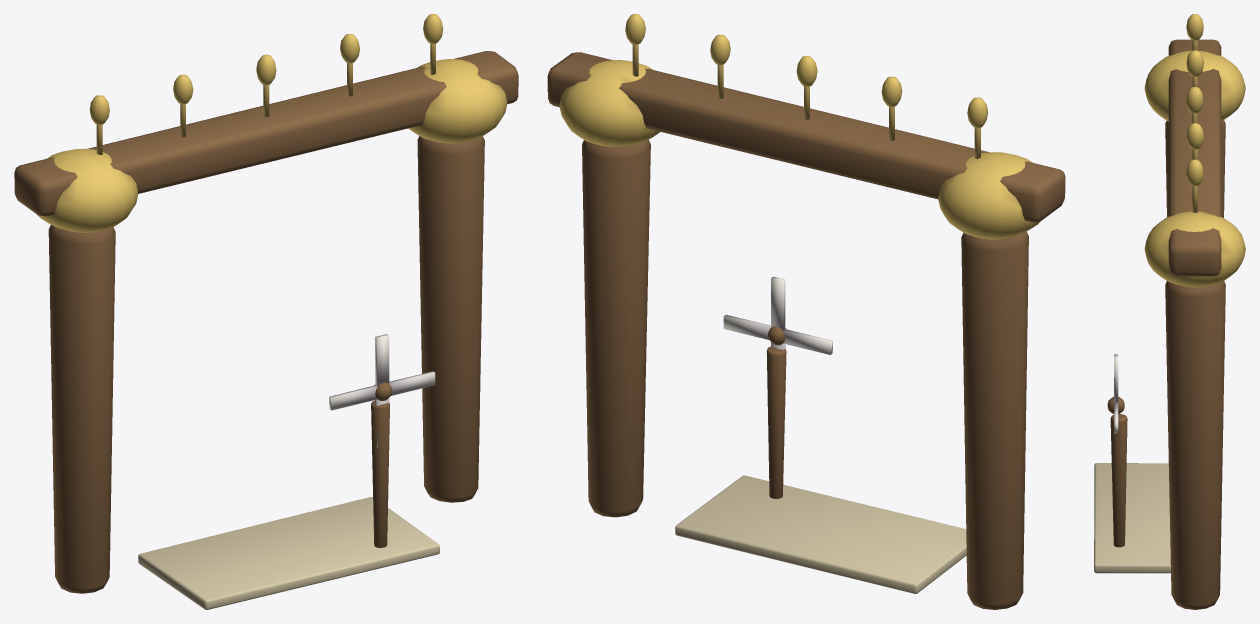
3 renders of one model, left to right at view 1: azimuth 30°, elevation 25°; view 2: azimuth 150°, elevation 25°; view 3: azimuth 270°, elevation 25°, orthographic. The views are drawn at different scales.
Parts seen in each view (by area): view 1: gate_8c1c7df1; view 2: gate_8c1c7df1; view 3: gate_8c1c7df1.
Boxes of the visible parts, x1=… form: gate_8c1c7df1: x1=14, y1=14, x2=518, y2=609; gate_8c1c7df1: x1=547, y1=14, x2=1065, y2=609; gate_8c1c7df1: x1=1094, y1=14, x2=1245, y2=609.
Size of the model in its own units: 4.91 by 4.76 by 1.5.
